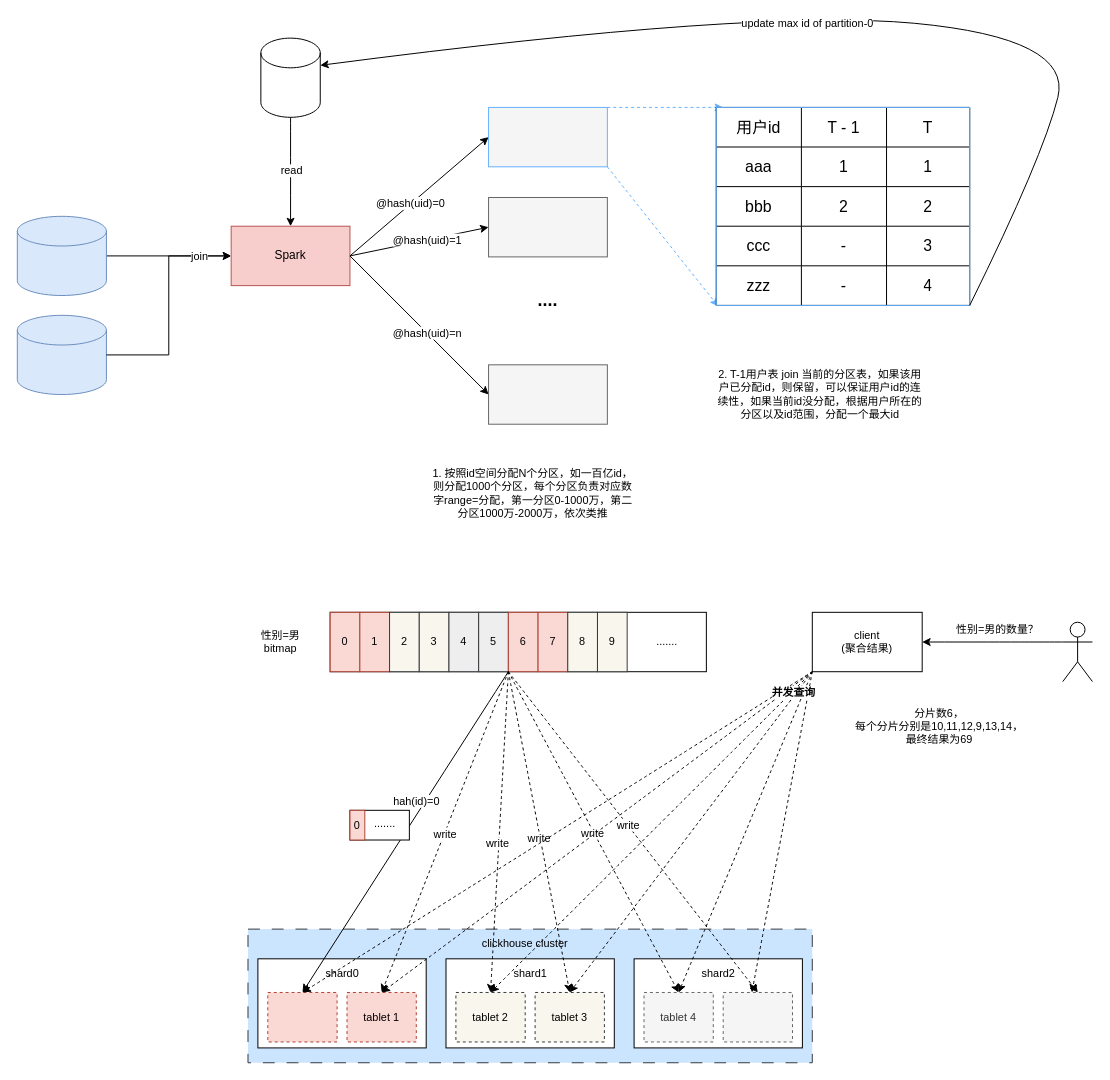
The diagram is 1110 pixels wide and 1080 high, and some of its shapes have lost their labels. Each missing label, with the box of its shape:
Actor: (1062, 621, 1092, 682)
max id of each partition: (260, 37, 320, 117)
partition-0 (0-1000万): (488, 106, 607, 167)
partition-1 (1000万-2000万): (488, 197, 607, 257)
partition-N: (488, 364, 607, 424)
tablet 0: (267, 991, 337, 1042)
tablet 5: (722, 991, 792, 1042)
用户信息T: (16, 314, 106, 395)
用户信息T-1: (16, 215, 106, 296)
